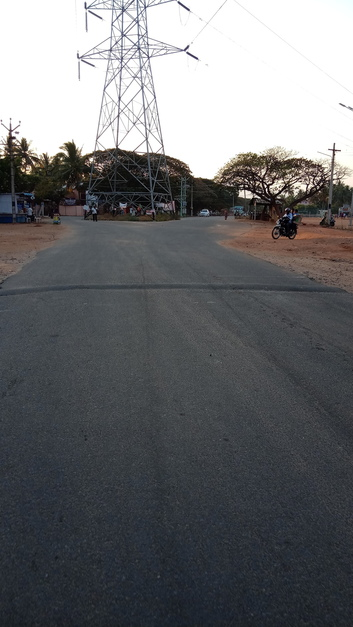bump: (1, 282, 347, 295)
